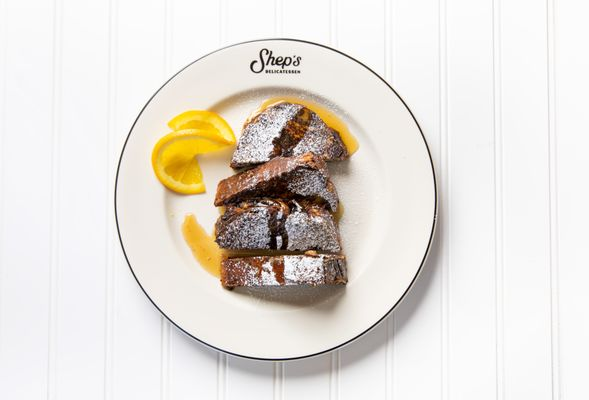taco: (151, 109, 237, 195)
